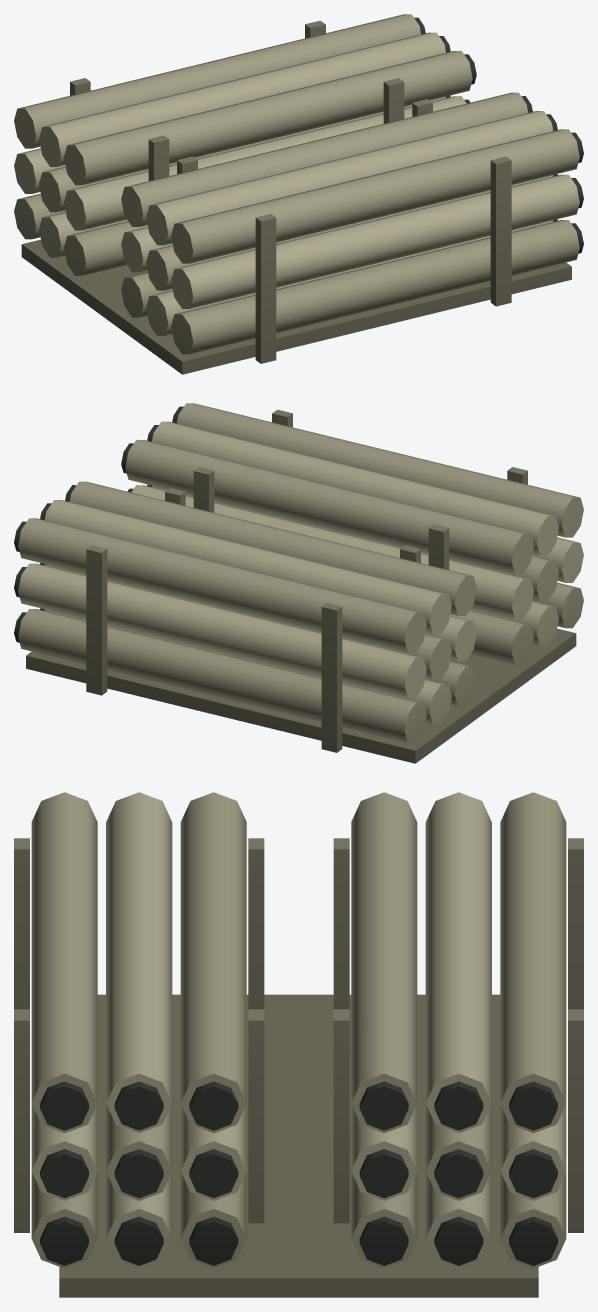
The model's file is m_arty_c13b7aec.glb.
3 views of the same model, one above another, from view 1: azimuth 30°, elevation 25°; view 2: azimuth 150°, elevation 25°; view 3: azimuth 270°, elevation 25° (orthographic). The views are drawn at different scales.
Parts seen in each view (by area): view 1: mesh; view 2: mesh; view 3: mesh.
Boxes of the visible parts, x1=… form: mesh: x1=14, y1=14, x2=583, y2=374; mesh: x1=14, y1=403, x2=583, y2=763; mesh: x1=14, y1=792, x2=583, y2=1297.
Bounding box in the file's own units: 12.78 × 4.62 × 10.7.
